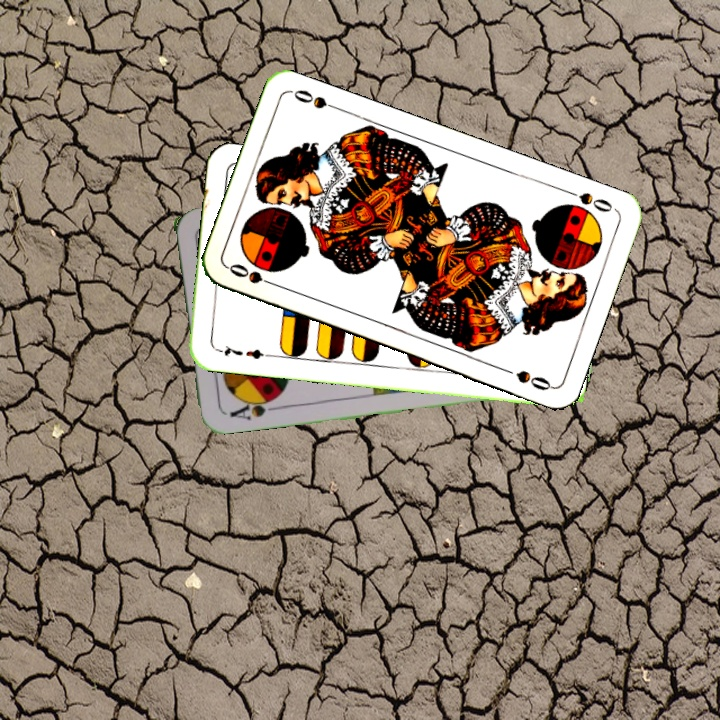E7: (212, 341, 271, 362)
SA: (225, 393, 279, 423)
SO: (225, 259, 282, 290), (561, 185, 618, 215)
